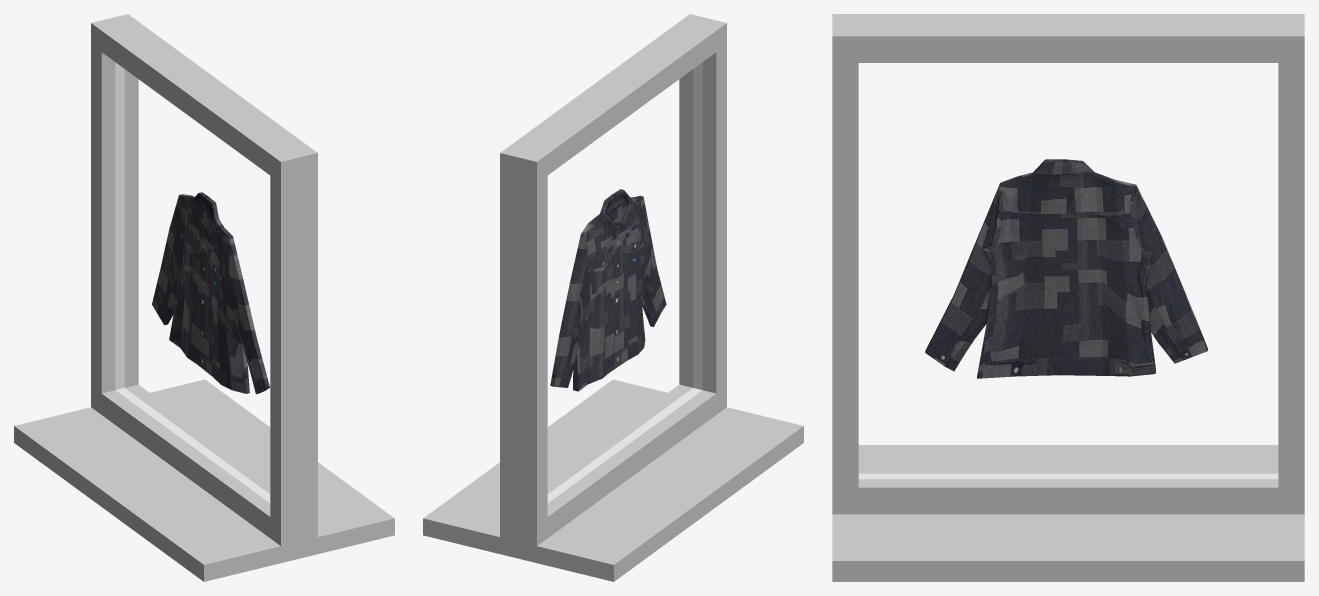
File: plaid_trucker_jacket.glb
3 views of the same model, side by side, from view 1: azimuth 30°, elevation 25°; view 2: azimuth 150°, elevation 25°; view 3: azimuth 270°, elevation 25° (orthographic). The views are drawn at different scales.
Visible parts, largest first — view 1: Cube.026, Plane.013; view 2: Cube.026, Plane.013; view 3: Cube.026, Plane.013.
Part boxes in pixels (x1=…): Cube.026: x1=14, y1=14, x2=394, y2=581; Plane.013: x1=152, y1=192, x2=269, y2=394; Cube.026: x1=423, y1=14, x2=803, y2=581; Plane.013: x1=550, y1=189, x2=666, y2=391; Cube.026: x1=832, y1=14, x2=1304, y2=581; Plane.013: x1=925, y1=159, x2=1207, y2=378.
Size of the model in its own units: 0.362 by 0.7276 by 0.6242.
3 materials, 1 textured.
